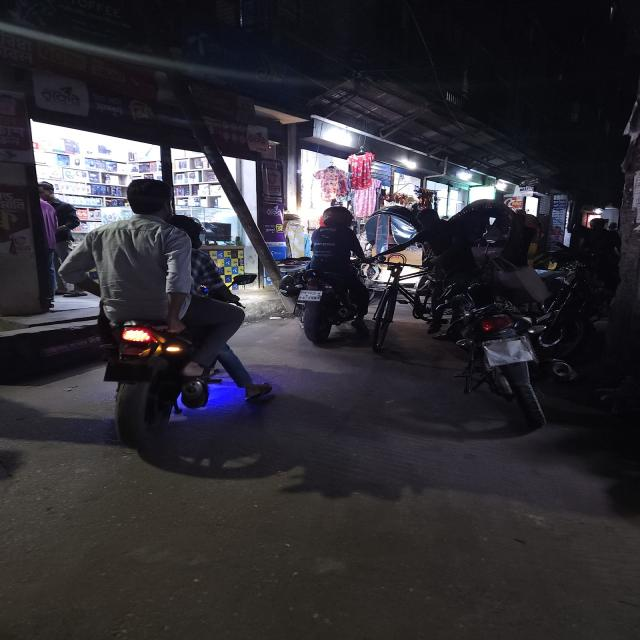motorcycle: (29, 312, 292, 460), (456, 248, 551, 427), (275, 273, 374, 341)
